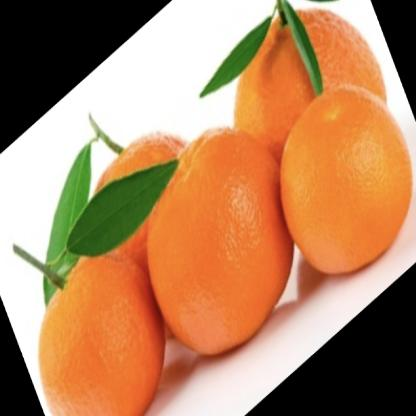fresh: (40, 1, 413, 416)
